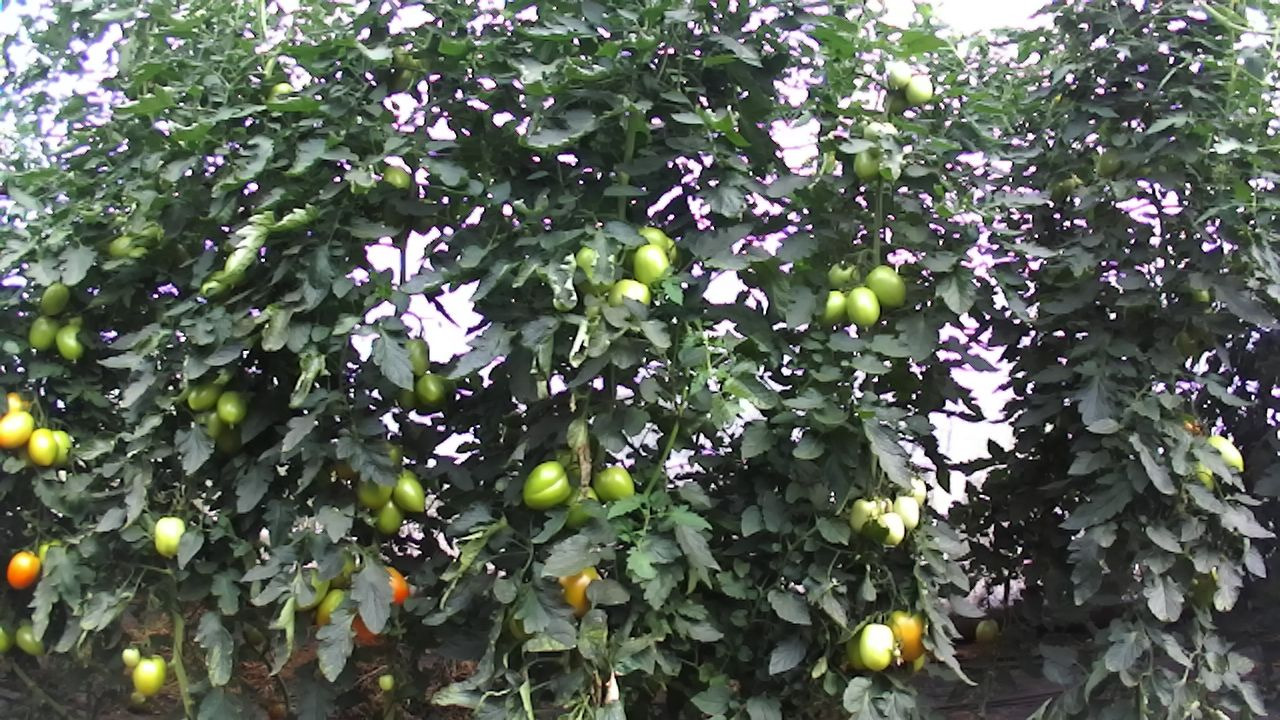tomato: (521, 457, 574, 512), (887, 607, 930, 667), (861, 261, 908, 310), (857, 619, 897, 673), (1201, 431, 1248, 476), (129, 651, 169, 700), (630, 242, 673, 286), (844, 284, 882, 332), (588, 462, 637, 499), (353, 469, 395, 512), (378, 556, 412, 609), (3, 547, 42, 592), (814, 284, 853, 329), (152, 512, 187, 561), (370, 497, 410, 539), (607, 275, 655, 310), (0, 407, 36, 452), (399, 333, 433, 379), (185, 376, 225, 414), (389, 473, 426, 514), (214, 387, 250, 429), (25, 427, 59, 469), (414, 372, 451, 410), (846, 495, 879, 534), (27, 313, 60, 352), (55, 322, 87, 361), (39, 280, 71, 317), (892, 494, 921, 534), (901, 72, 935, 106), (13, 622, 46, 657), (381, 160, 412, 193), (850, 147, 880, 181), (119, 644, 142, 669), (377, 672, 396, 692)
